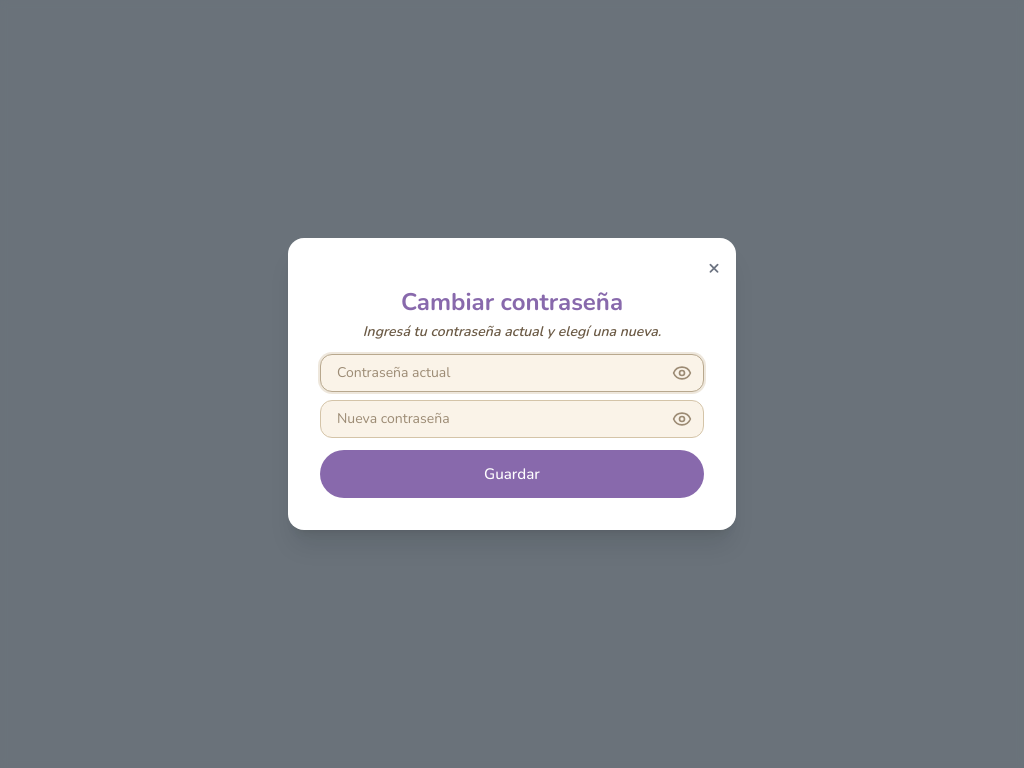
Test case: ChangePasswordModal › muestra errores de validación si se envía el formulario vacío
Click the button "Guardar" at (512, 474), box left=320, top=450, right=704, bottom=498
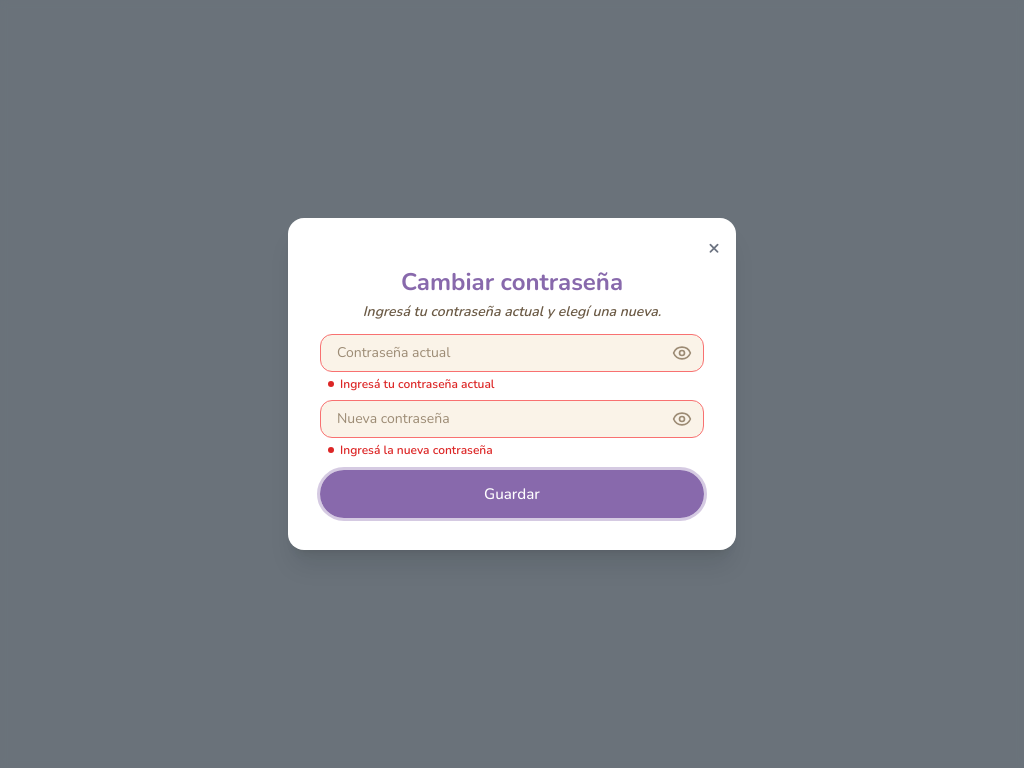
Expected: the text "Ingresá tu contraseña actual" is shown, left=328, top=376, right=494, bottom=392
Expected: the text "Ingresá la nueva contraseña" is shown, left=328, top=442, right=493, bottom=458
